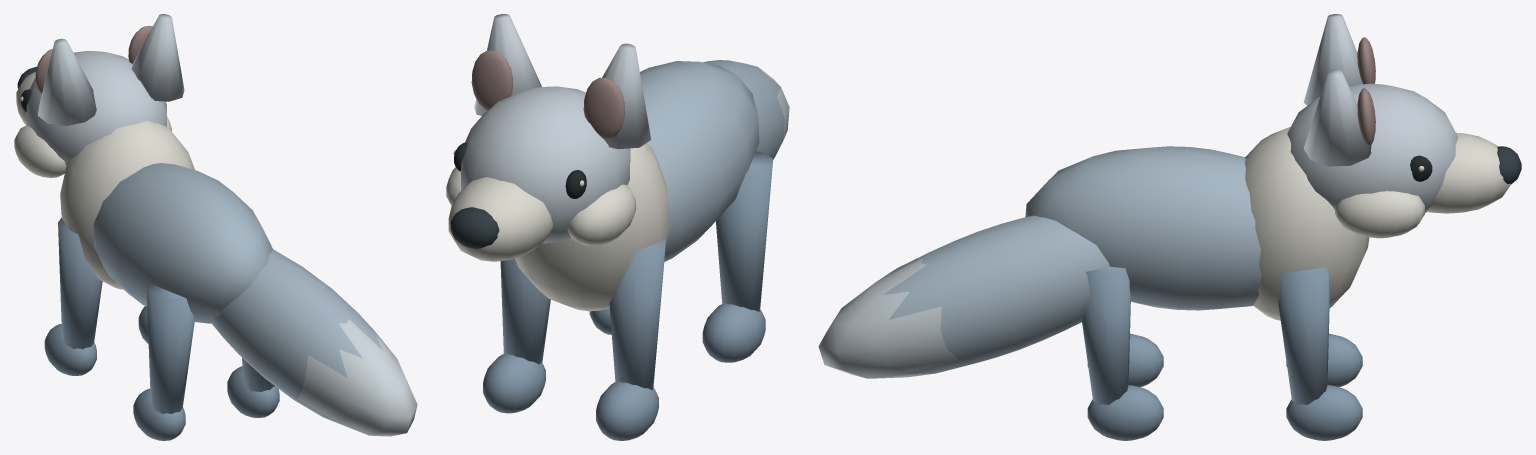
File: arctic-fox-high.glb
3 renders of one model, left to right at view 1: azimuth 30°, elevation 25°; view 2: azimuth 150°, elevation 25°; view 3: azimuth 270°, elevation 25°, orthographic. The views are drawn at different scales.
Parts seen in each view (by area): view 1: arctic-fox-high; view 2: arctic-fox-high; view 3: arctic-fox-high.
Boxes of the visible parts, x1,y1,x2,y2 form: arctic-fox-high: [14, 14, 417, 440]; arctic-fox-high: [446, 14, 789, 440]; arctic-fox-high: [818, 14, 1521, 440].
Size of the model in its own units: 0.3896 by 0.7581 by 1.31.
